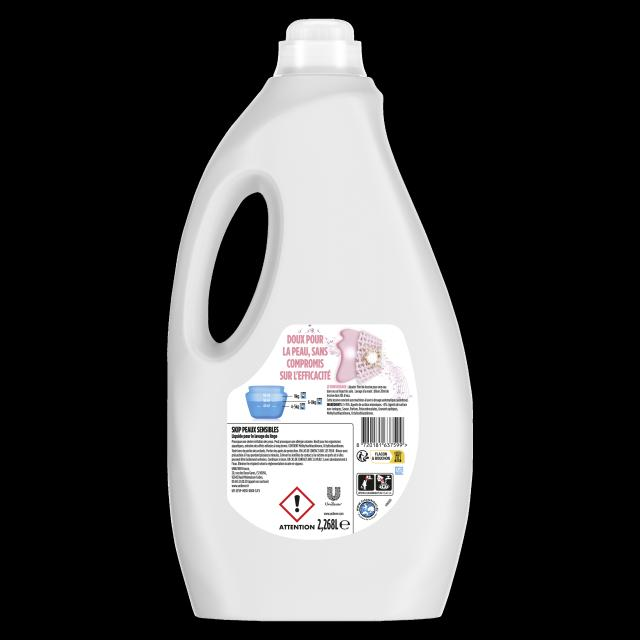GHS_Symbol_EXCLAMATION_MARK: (279, 486, 315, 522)
